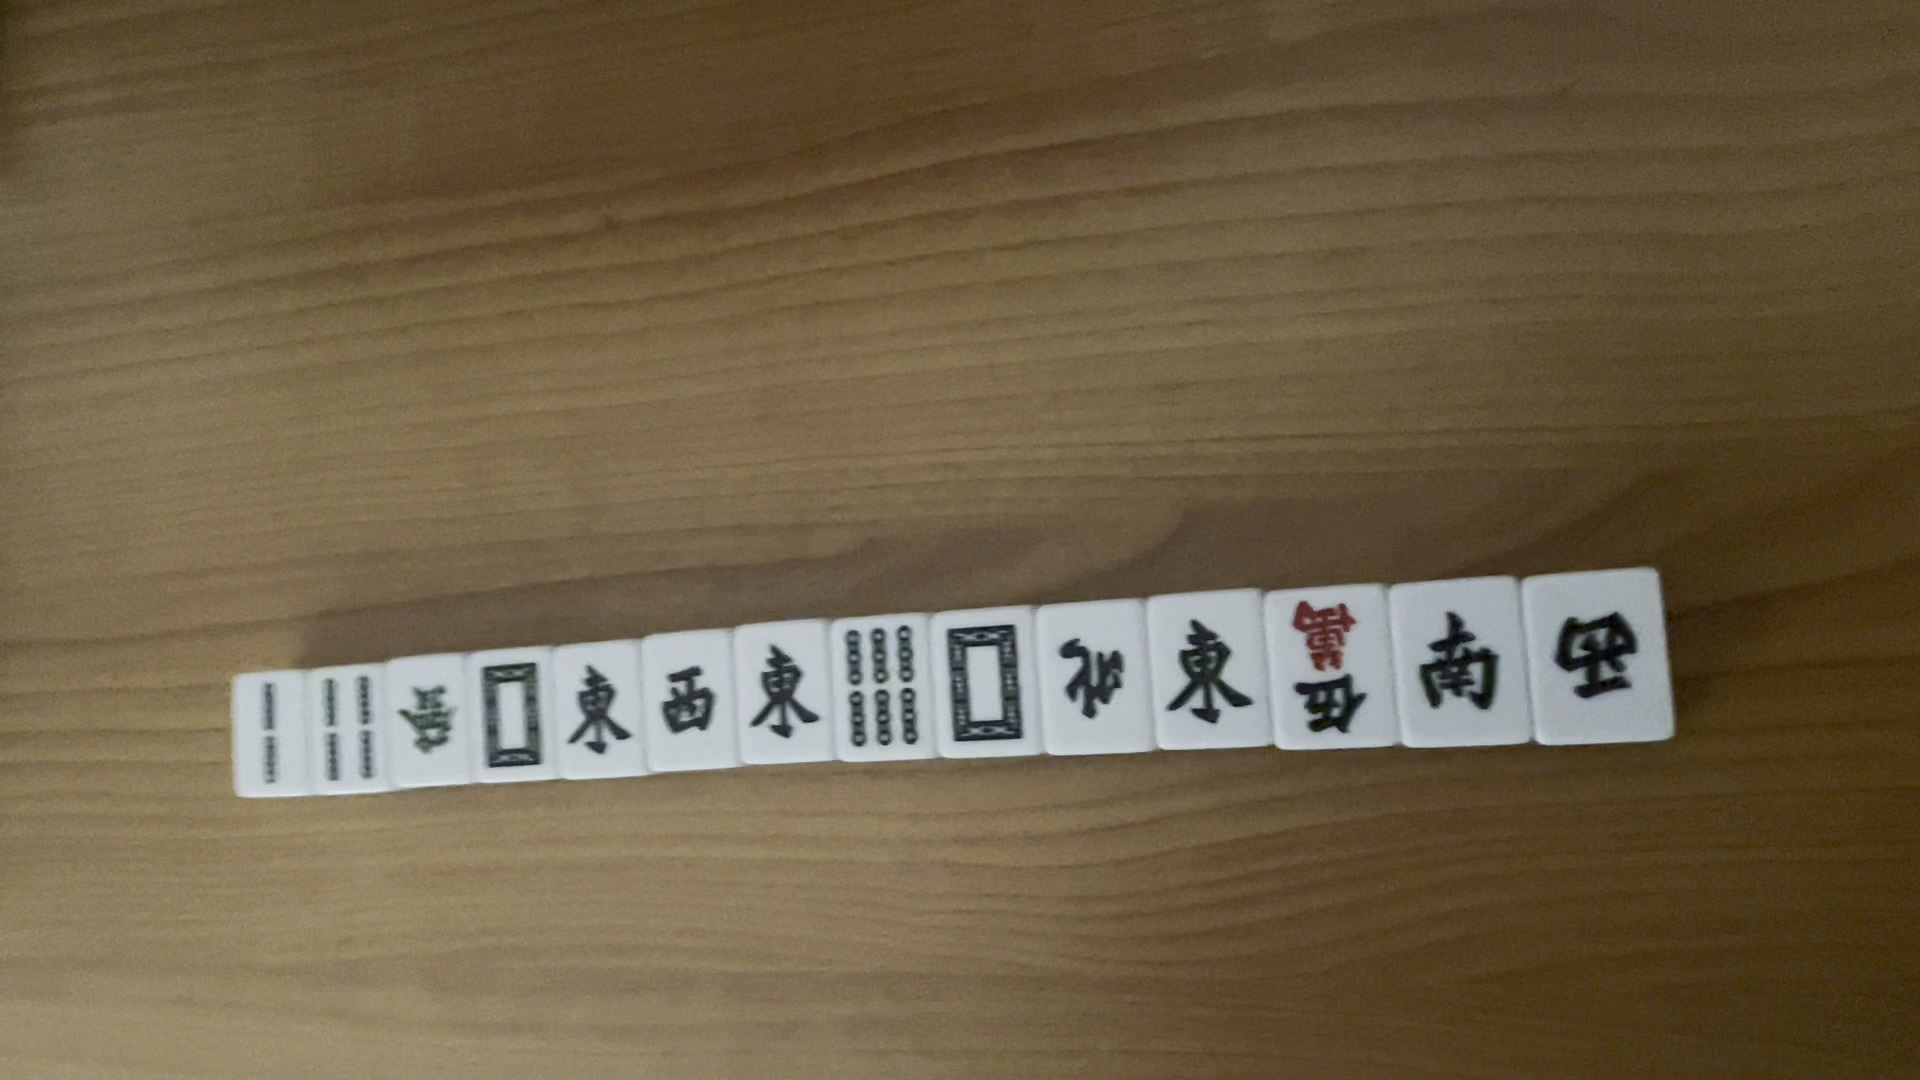b-2: (249, 679, 295, 791)
b-4: (313, 673, 384, 791)
b-6: (836, 621, 924, 754)
c-5: (1288, 595, 1374, 738)
honors-east: (1160, 616, 1255, 733), (748, 640, 822, 742), (562, 662, 636, 764)
honors-green: (396, 673, 462, 775)
honors-north: (1048, 630, 1135, 727)
honors-south: (1410, 604, 1503, 723)
honors-west: (1542, 601, 1648, 709), (655, 659, 719, 738)
honors-white: (942, 618, 1029, 753), (473, 659, 547, 775)
